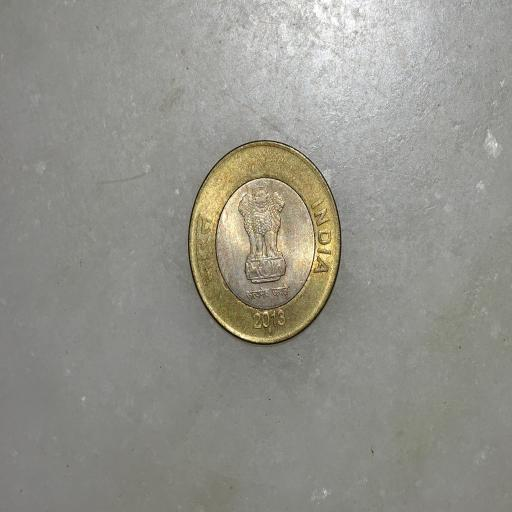rupee10: (182, 137, 345, 349)
